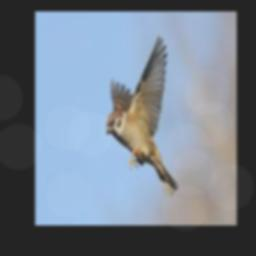Sparrow: (106, 35, 177, 197)
